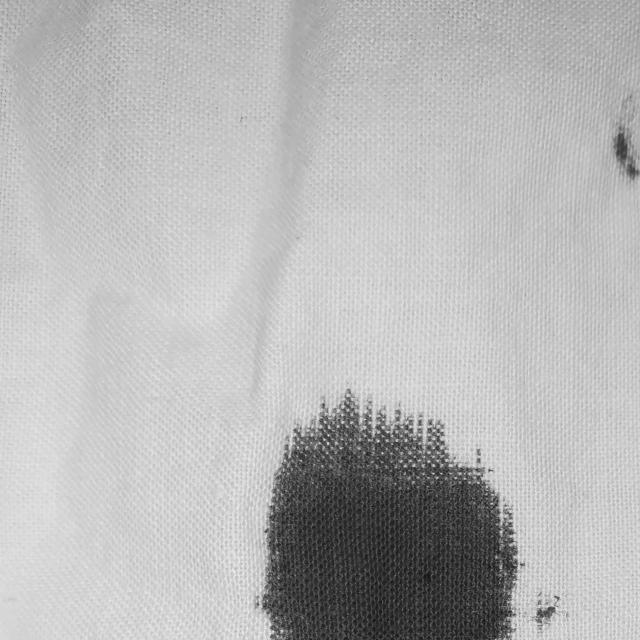Stain: (263, 391, 517, 640), (613, 93, 640, 180), (534, 591, 564, 634)
